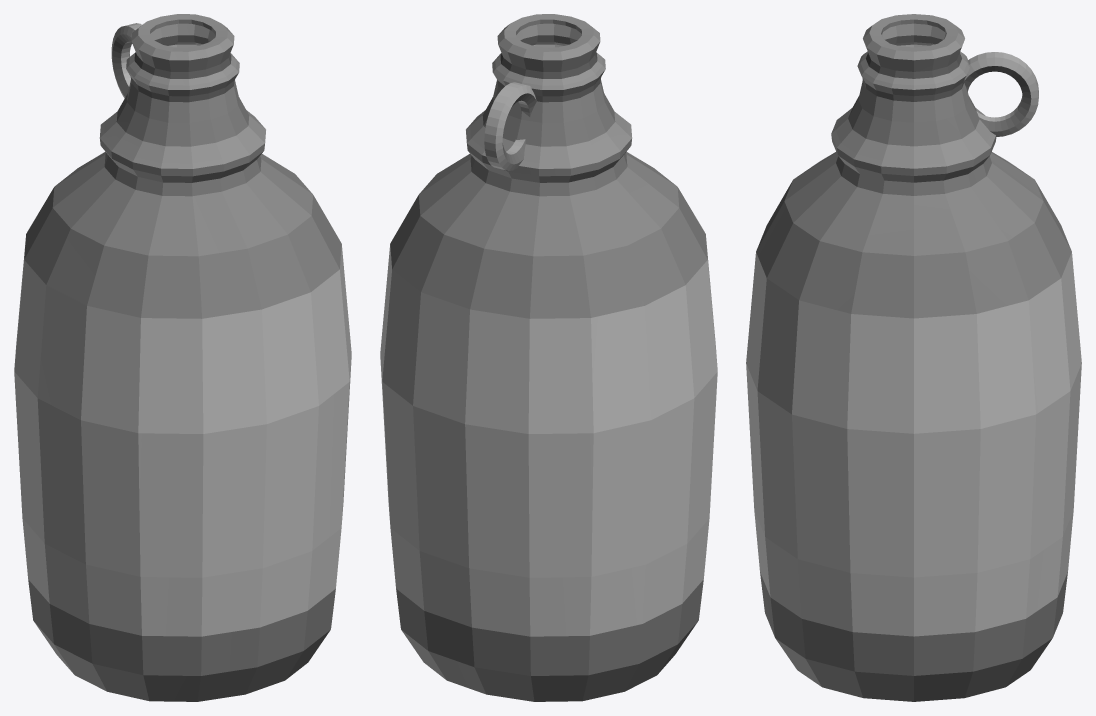
The model's file is BleachModel.fbx.
The picture shows the model from 3 angles, left to right: view 1: azimuth 30°, elevation 25°; view 2: azimuth 150°, elevation 25°; view 3: azimuth 270°, elevation 25°; orthographic projection.
Parts seen in each view (by area): view 1: Bleach; view 2: Bleach; view 3: Bleach.
Part boxes in pixels (x1,y1,x2,y2): Bleach: (14, 14, 351, 701); Bleach: (380, 14, 717, 701); Bleach: (746, 14, 1081, 701).
Bounding box in the file's own units: 30.02 × 61.59 × 30.02.
